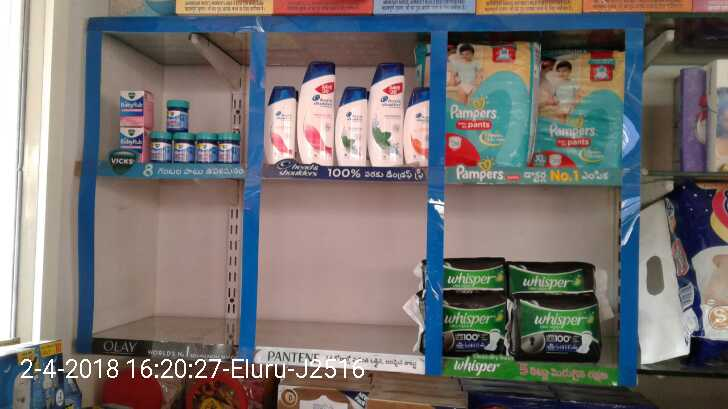vicks: (117, 89, 241, 162)
